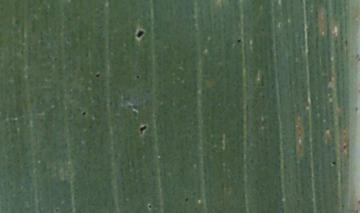tarspot: (135, 27, 147, 42), (138, 123, 148, 137), (134, 73, 141, 80), (81, 109, 87, 117), (236, 37, 242, 45), (147, 202, 153, 210), (331, 159, 337, 167), (344, 38, 349, 47), (93, 72, 100, 78), (182, 197, 189, 203)
